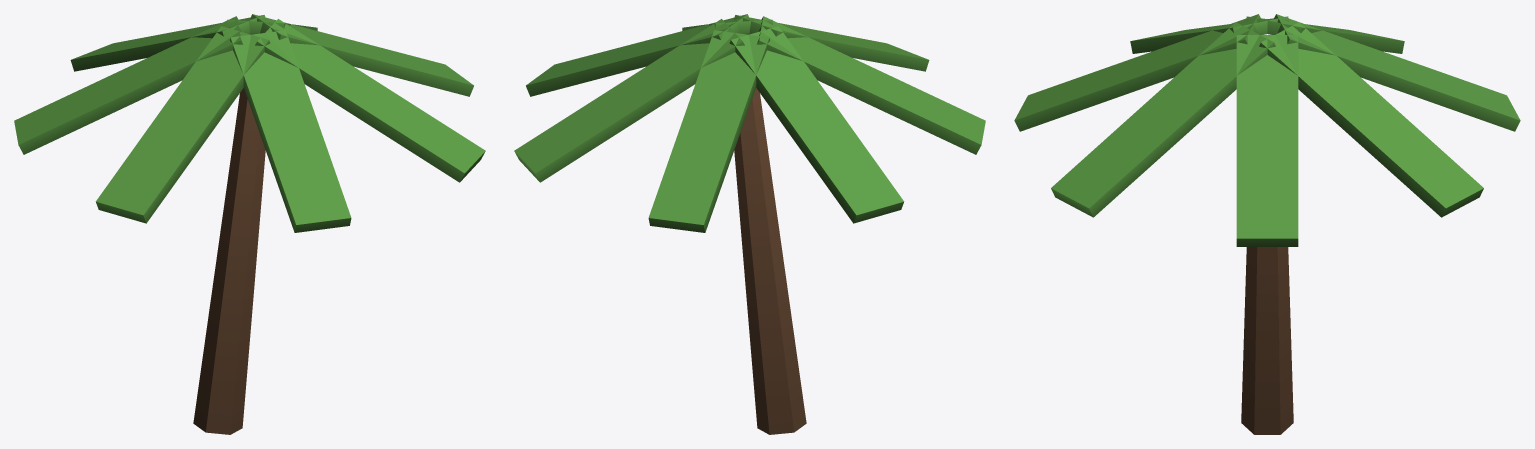
The model's file is tree_T.glb.
3 views of the same model, side by side, from view 1: azimuth 30°, elevation 25°; view 2: azimuth 150°, elevation 25°; view 3: azimuth 270°, elevation 25° (orthographic). The views are drawn at different scales.
Parts seen in each view (by area): view 1: tree_T; view 2: tree_T; view 3: tree_T.
Part boxes in pixels (left/top/right/bottom): tree_T: left=14, top=14, right=485, bottom=434; tree_T: left=514, top=14, right=985, bottom=434; tree_T: left=1014, top=14, right=1520, bottom=434.
Size of the model in its own units: 1.13 by 1.05 by 1.16.
Materials: 1 (1 with a texture image).
